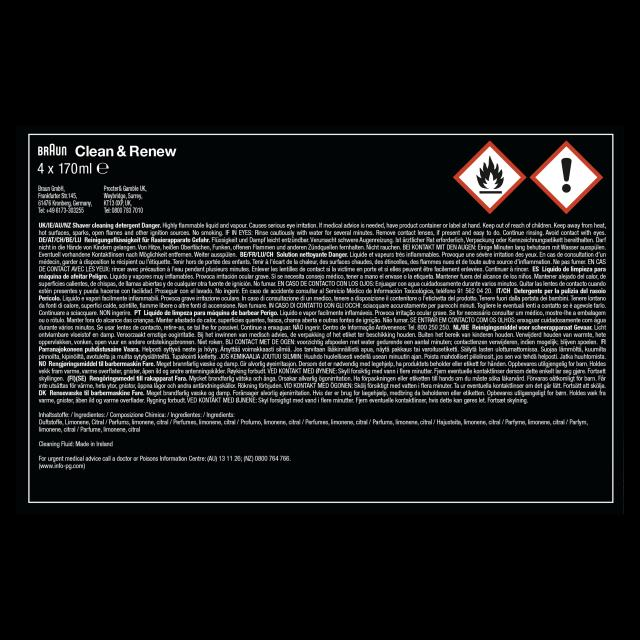GHS_Symbol_EXCLAMATION_MARK: (529, 140, 605, 214)
GHS_Symbol_FLAME: (454, 141, 526, 215)
